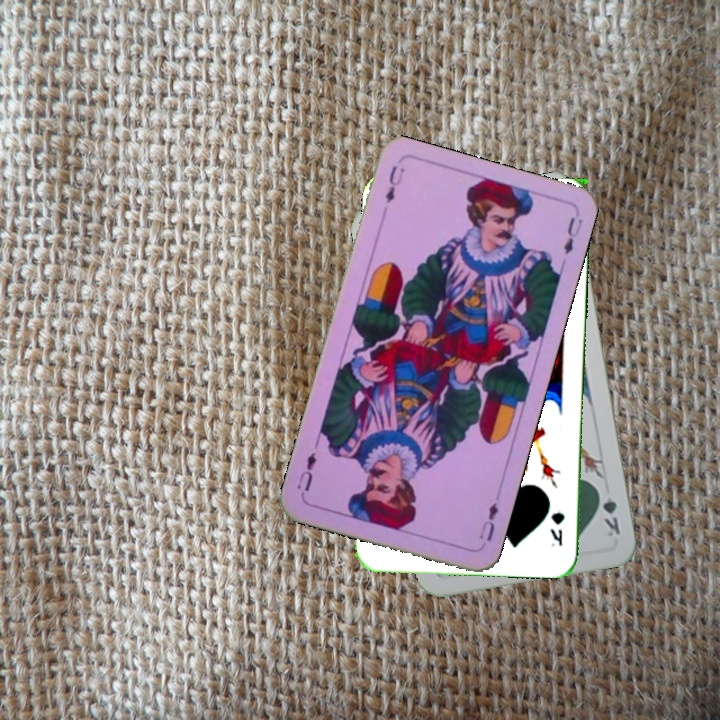EU: (381, 161, 408, 206), (475, 498, 501, 544)
GK: (593, 484, 623, 540), (546, 508, 567, 550)
